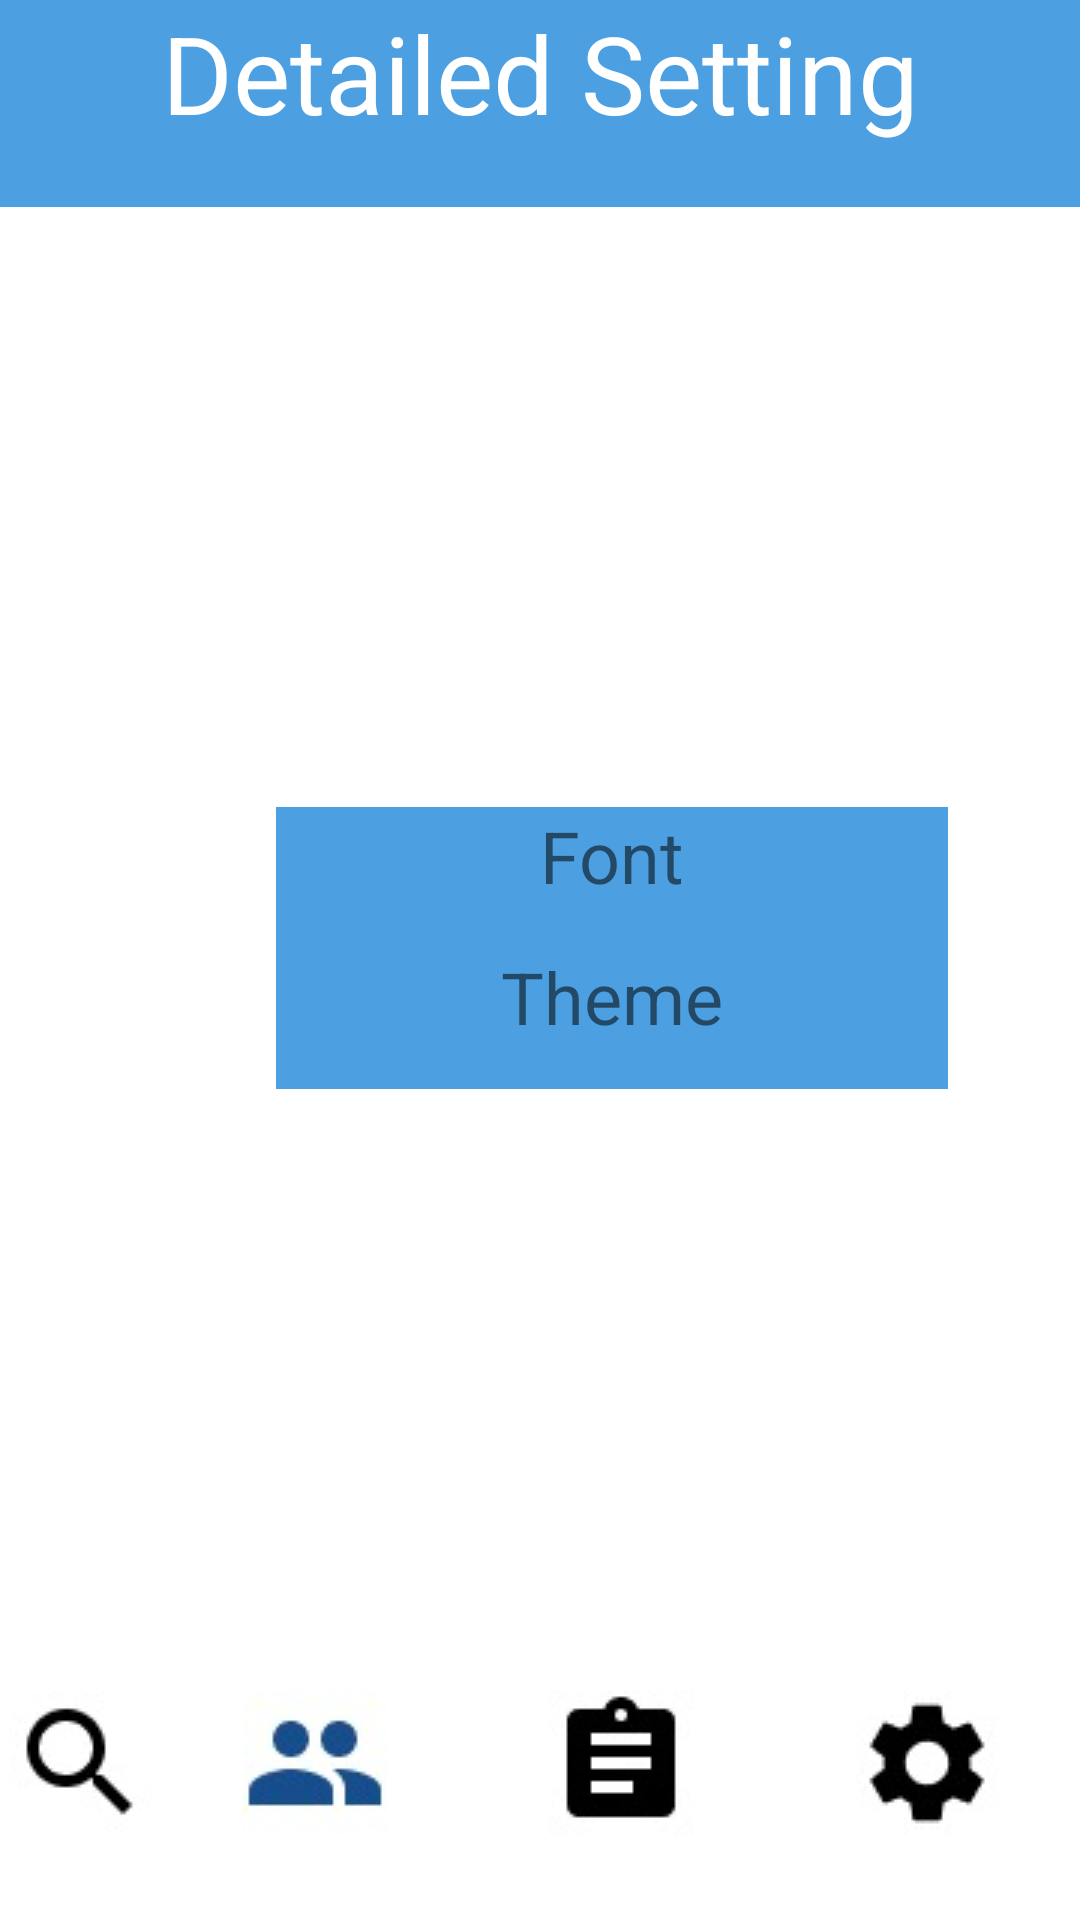

Locate icon controls on the screen. Image size 1080px x 1920px, boxes as bbox(x1, y1, x2, y2).
course list: bbox(566, 1696, 676, 1818)
people: bbox(243, 1720, 382, 1810)
search: bbox(26, 1708, 133, 1815)
setting: bbox(869, 1703, 985, 1823)
